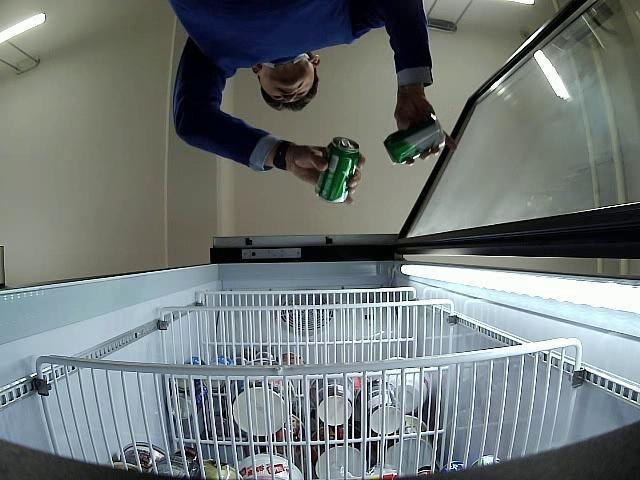12_chilsungCider: (315, 137, 359, 204), (383, 118, 443, 164)
